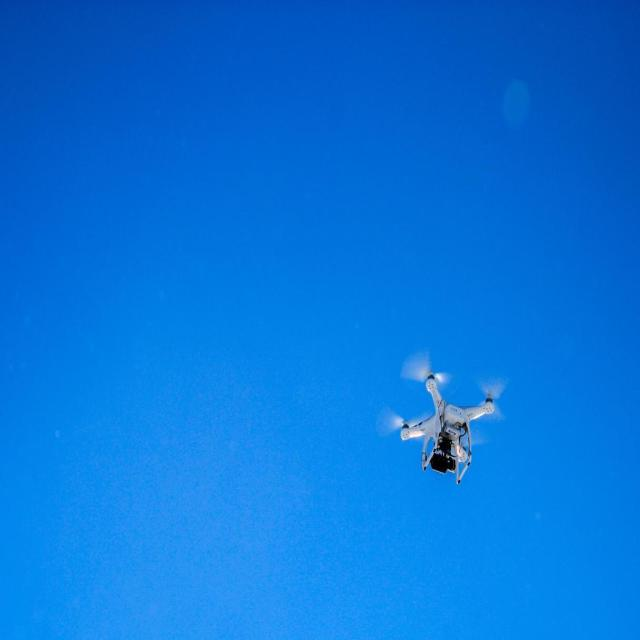drone: (399, 368, 496, 485)
